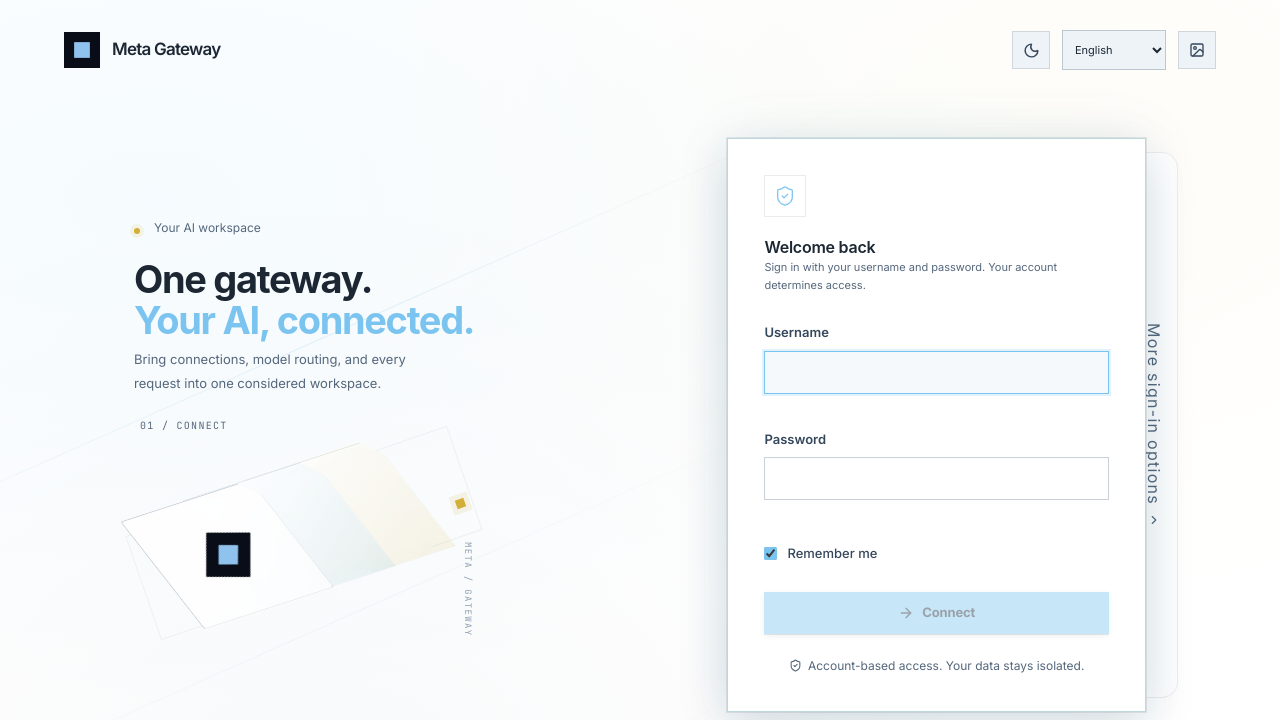
Test: channel-first shell › does not play the transition when authorization fails
This screenshot has width=1280, height=720.
In the field labelled "Username": {"x": 937, "y": 372} 764,351 -> 1109,394, type "admin"
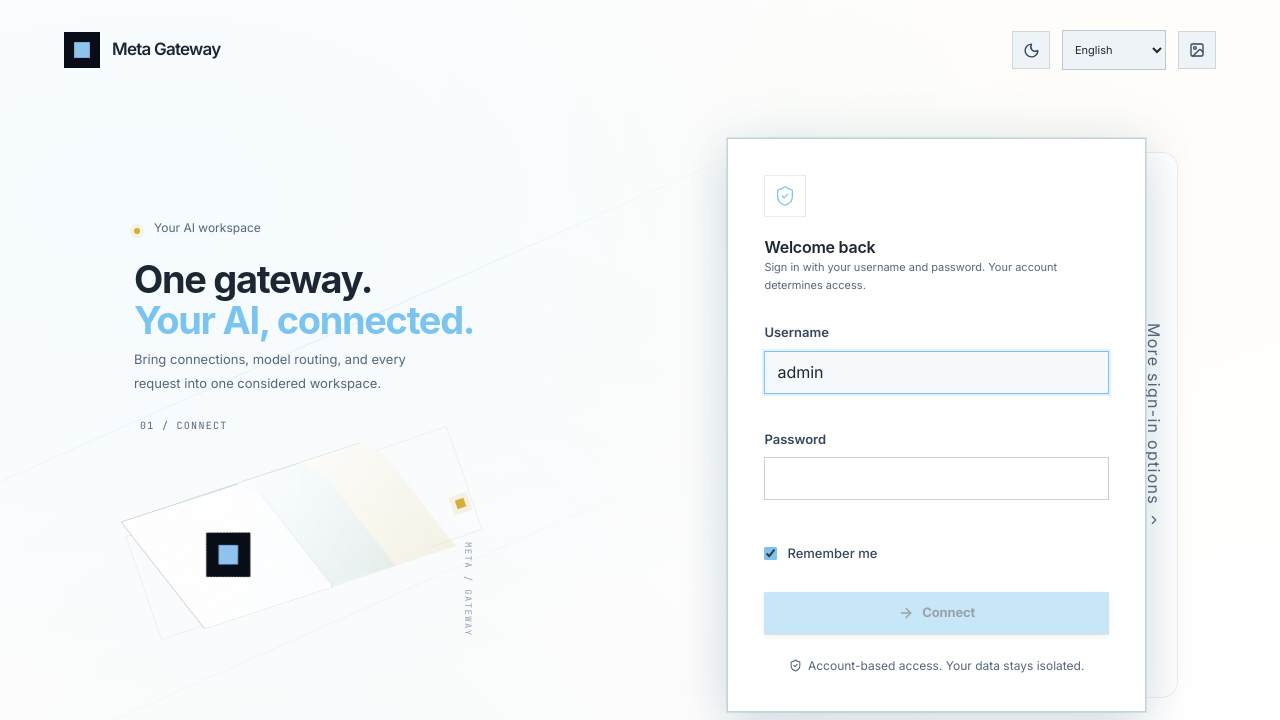
In the password field labelled "Password": {"x": 937, "y": 479} 764,457 -> 1109,500, type "bad-token"
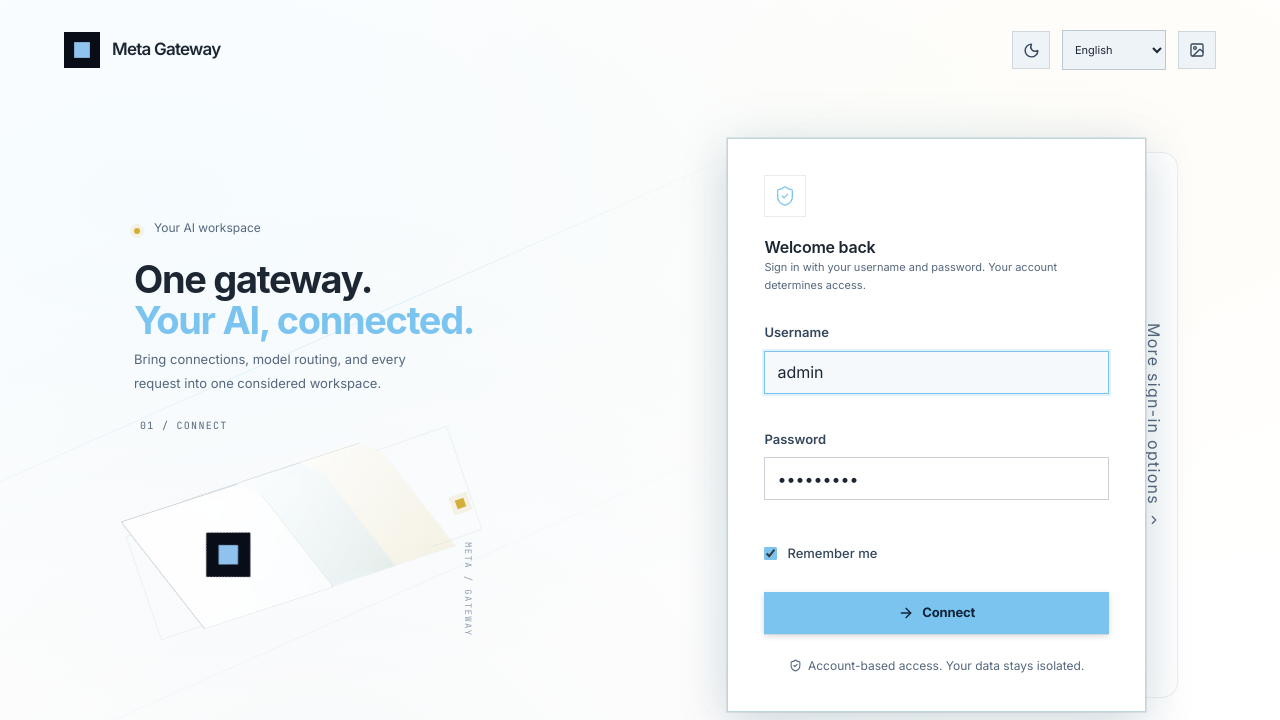
Click the button "Connect": {"x": 937, "y": 613} 764,592 -> 1109,634
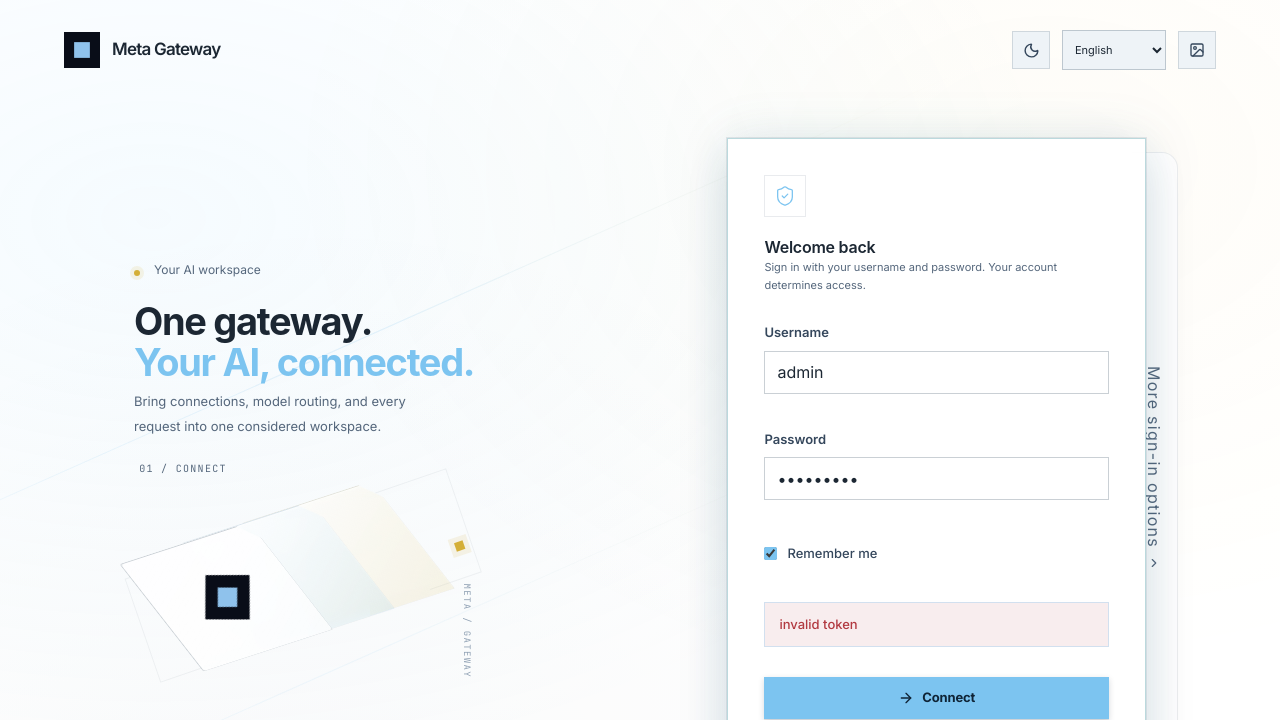
Expected: the text "invalid token" is shown, 764,602 -> 1109,647
